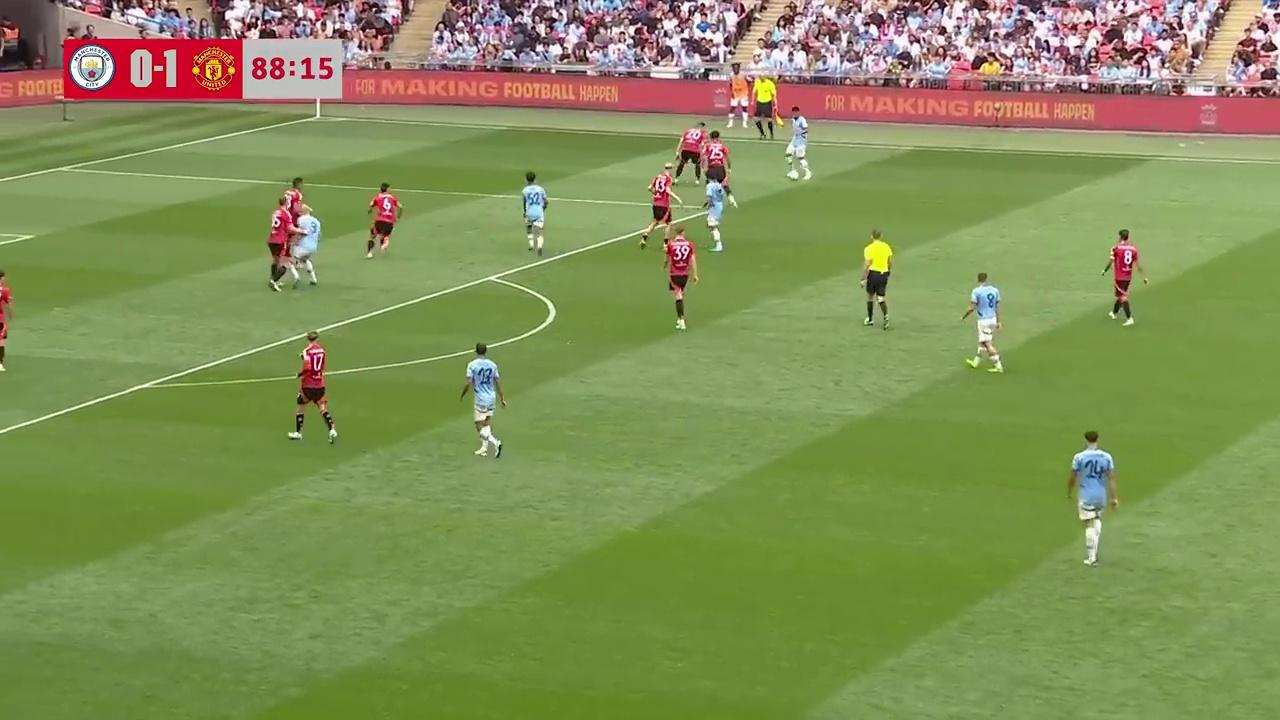ball: (786, 165, 800, 181)
player: (1068, 430, 1118, 566), (459, 343, 506, 459), (289, 333, 338, 444), (960, 272, 1004, 372), (1103, 229, 1148, 324), (662, 226, 698, 330), (266, 199, 301, 292), (639, 164, 675, 251), (365, 182, 402, 258), (290, 203, 320, 287), (704, 134, 737, 208), (282, 177, 308, 269), (521, 172, 548, 253), (674, 124, 707, 185), (703, 172, 727, 252), (785, 109, 812, 179), (0, 268, 12, 375)
referee: (860, 229, 893, 327), (752, 79, 776, 141)
